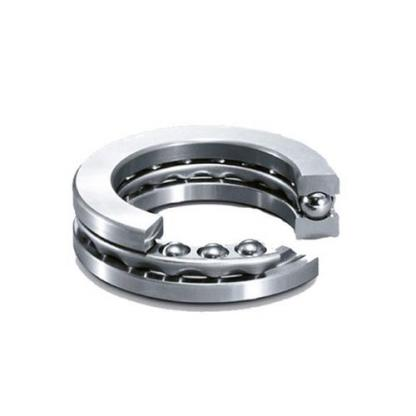FOD: (52, 116, 357, 310)
